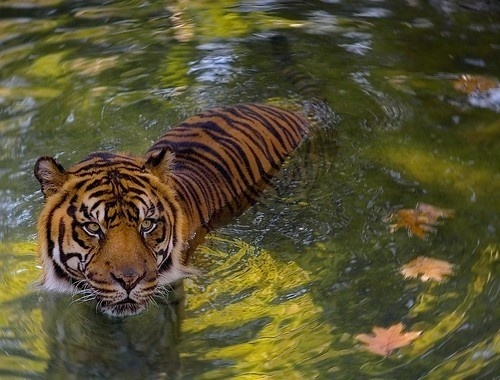tigre: (30, 95, 325, 317)
